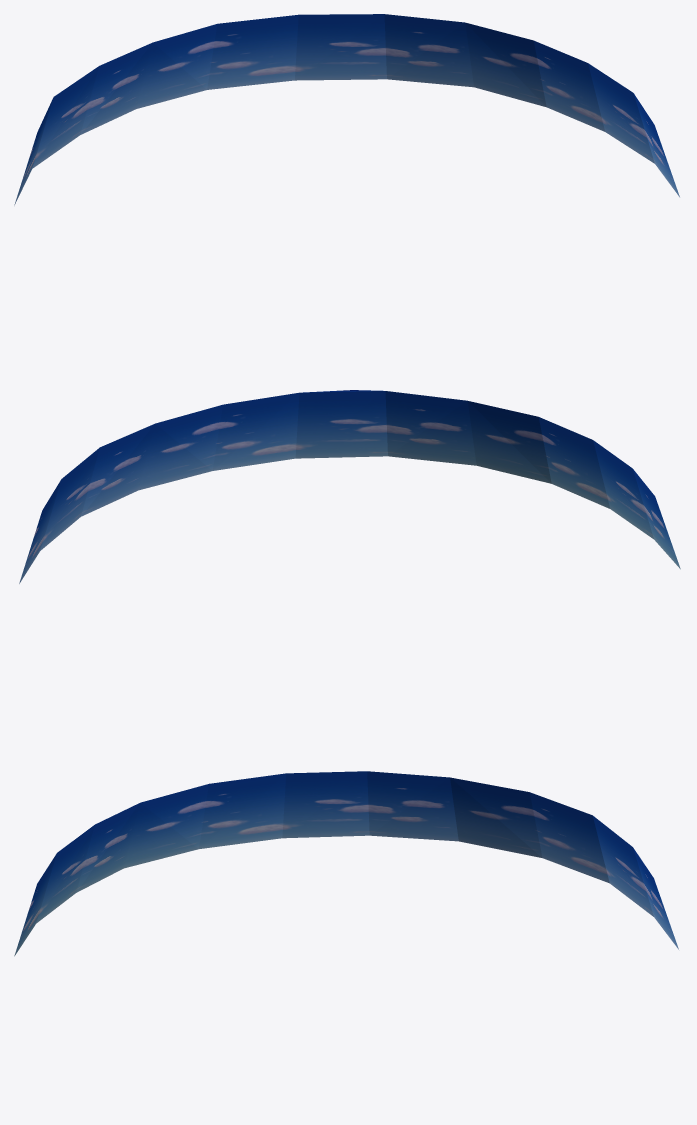
The model's file is vrcorn.glb.
3 views of the same model, one above another, from view 1: azimuth 30°, elevation 25°; view 2: azimuth 150°, elevation 25°; view 3: azimuth 270°, elevation 25° (orthographic).
Visible parts, largest first — view 1: polygon0; view 2: polygon0; view 3: polygon0.
Part boxes in pixels (box(x1,y1,x2,y2)): polygon0: box(14, 14, 679, 205); polygon0: box(19, 390, 680, 583); polygon0: box(14, 771, 678, 956).
Size of the model in its own units: 1145 by 390 by 1177.
1 material, 1 textured.
